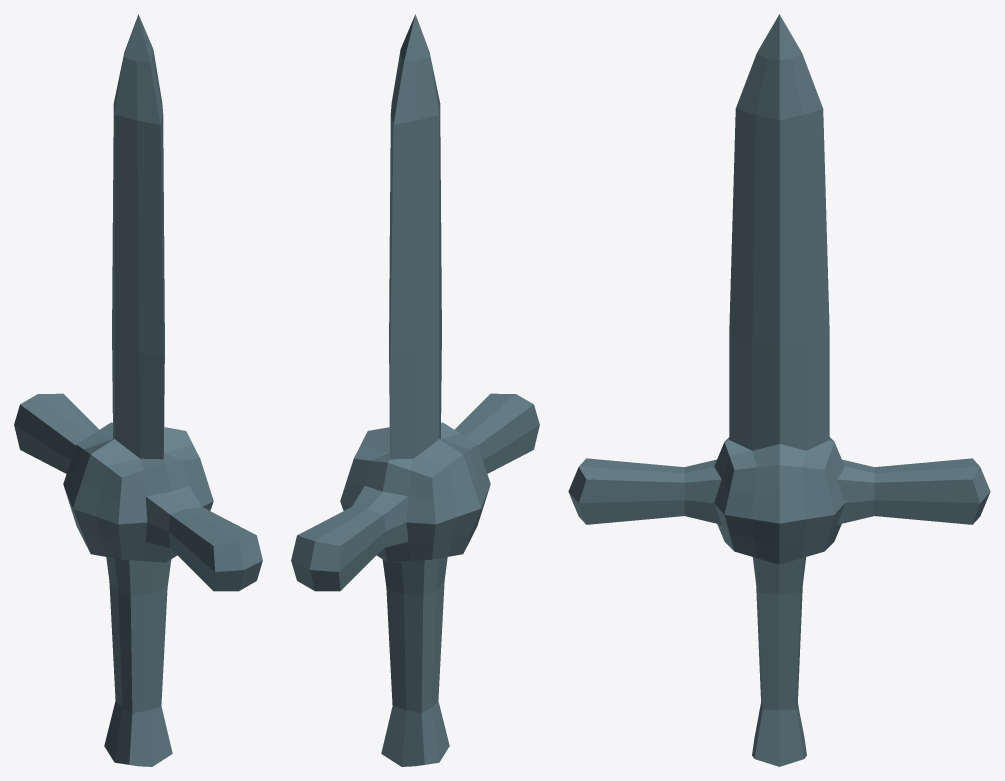
File: soldier.fbx
3 renders of one model, left to right at view 1: azimuth 30°, elevation 25°; view 2: azimuth 150°, elevation 25°; view 3: azimuth 270°, elevation 25°, orthographic.
Parts seen in each view (by area): view 1: Cube; view 2: Cube; view 3: Cube.
Part boxes in pixels (box(x1,y1,x2,y2)): Cube: box(14, 14, 262, 766); Cube: box(291, 14, 539, 766); Cube: box(568, 14, 990, 766).
Bounding box in the file's own units: 168 × 918 × 468.
